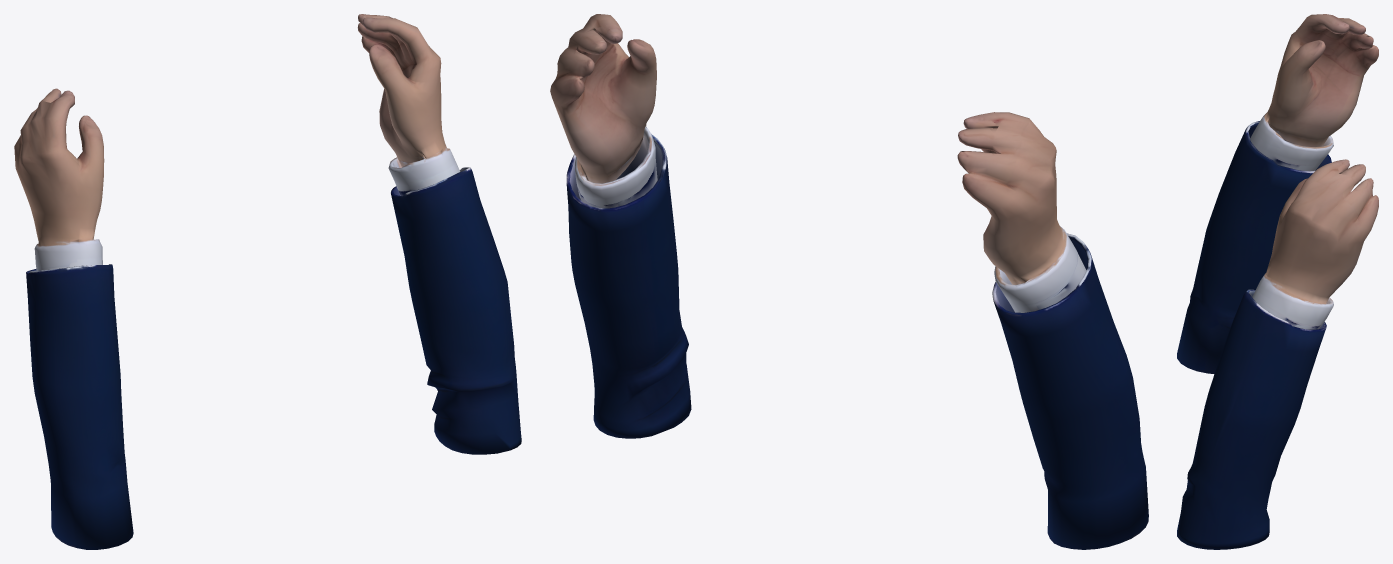
Rendered from hands.glb.
The picture shows the model from 3 angles, left to right: view 1: azimuth 30°, elevation 25°; view 2: azimuth 150°, elevation 25°; view 3: azimuth 270°, elevation 25°; orthographic projection. The views are drawn at different scales.
Parts seen in each view (by area): view 1: mesh_rep_0_ori_repair; view 2: mesh_rep_0_ori_repair; view 3: mesh_rep_0_ori_repair.
Part boxes in pixels (box(x1,y1,x2,y2)): mesh_rep_0_ori_repair: box(14, 14, 521, 549); mesh_rep_0_ori_repair: box(550, 14, 1148, 549); mesh_rep_0_ori_repair: box(1177, 14, 1378, 549).
Bounding box in the file's own units: 1.5 × 1.2 × 0.6133.
1 material, 1 textured.
